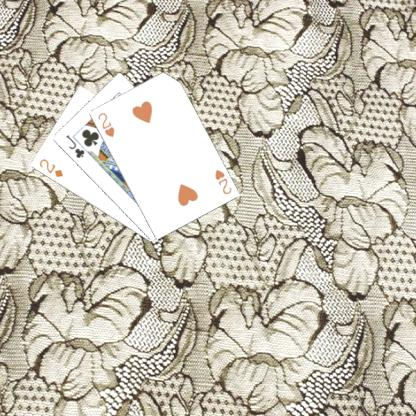2D: (36, 156, 64, 178)
2H: (211, 166, 233, 196), (95, 110, 116, 138)
JC: (63, 132, 86, 160)
